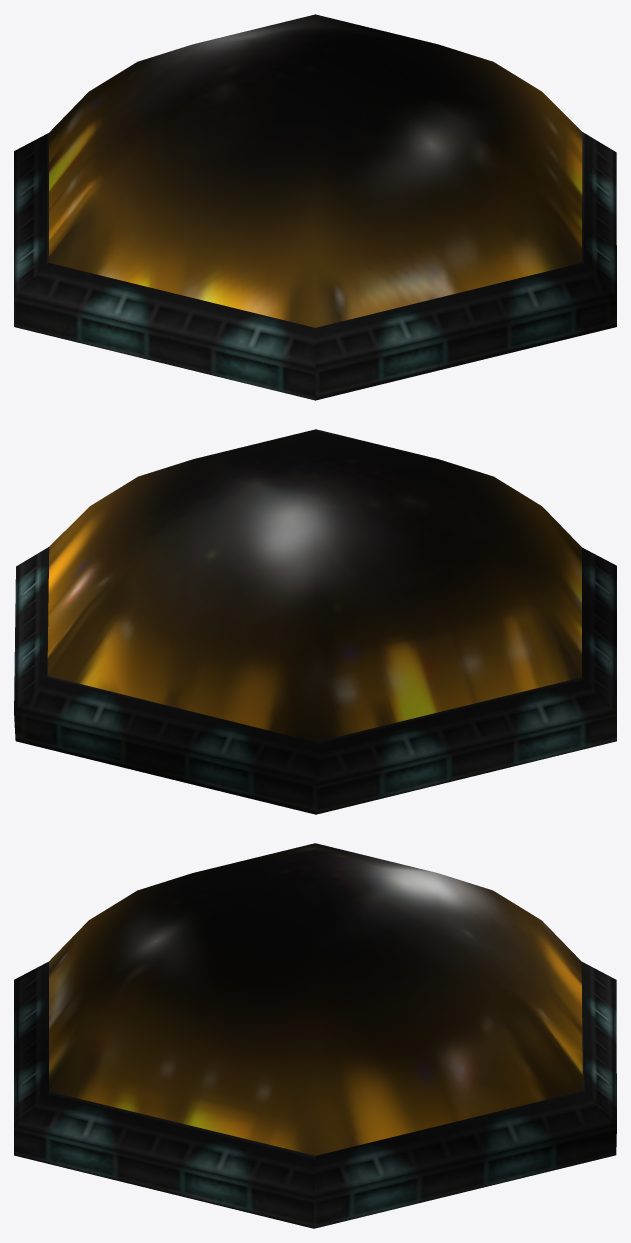
Rendered from acs23.obj.
3 views of the same model, one above another, from view 1: azimuth 30°, elevation 25°; view 2: azimuth 150°, elevation 25°; view 3: azimuth 270°, elevation 25° (orthographic).
Visible parts, largest first — view 1: frm-acs23; view 2: frm-acs23; view 3: frm-acs23.
Part boxes in pixels (<box>): frm-acs23: <box>14,14,616,400</box>; frm-acs23: <box>14,429,616,814</box>; frm-acs23: <box>14,843,616,1228</box>.
Size of the model in its own units: 9.39 by 3.06 by 8.15.
3 materials, 3 textured.
